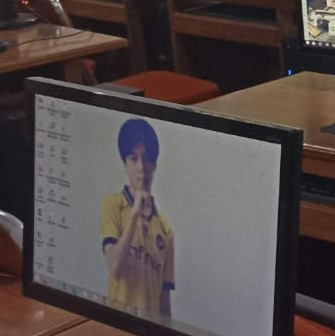monitor: (21, 76, 303, 331), (296, 0, 335, 55)
